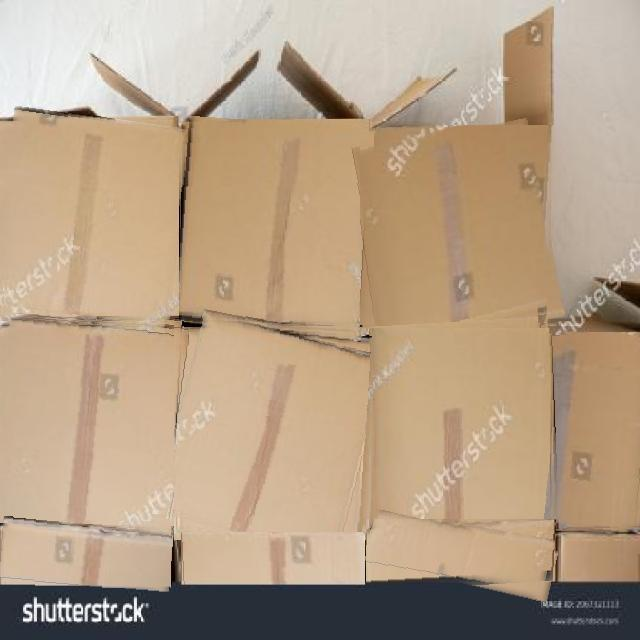BoxFace: (174, 318, 381, 540), (360, 125, 557, 343), (179, 119, 372, 329), (0, 316, 186, 526), (0, 111, 184, 322), (372, 328, 550, 529), (546, 332, 640, 530), (366, 519, 557, 592), (0, 519, 172, 588), (181, 532, 365, 585)
